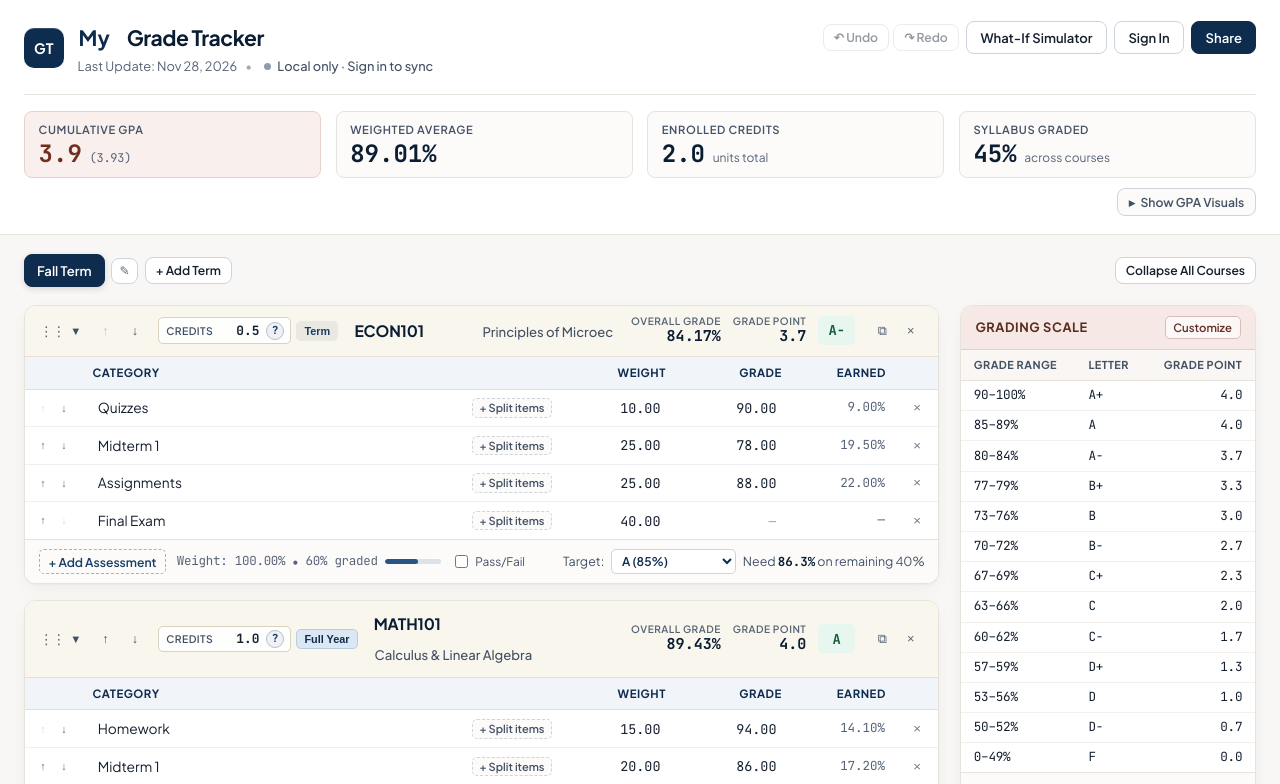
Scenario: Grade Tracker React Application (M1 + M1.1 + Firebase Cloud Sync) › requires inline 2-click confirmation before deleting an assessment row and supports Undo
The image size is (1280, 784).
Later steps or results of the test are not shown.
Click the button named "Delete ".
click(917, 408)  # box [904,395,930,421]
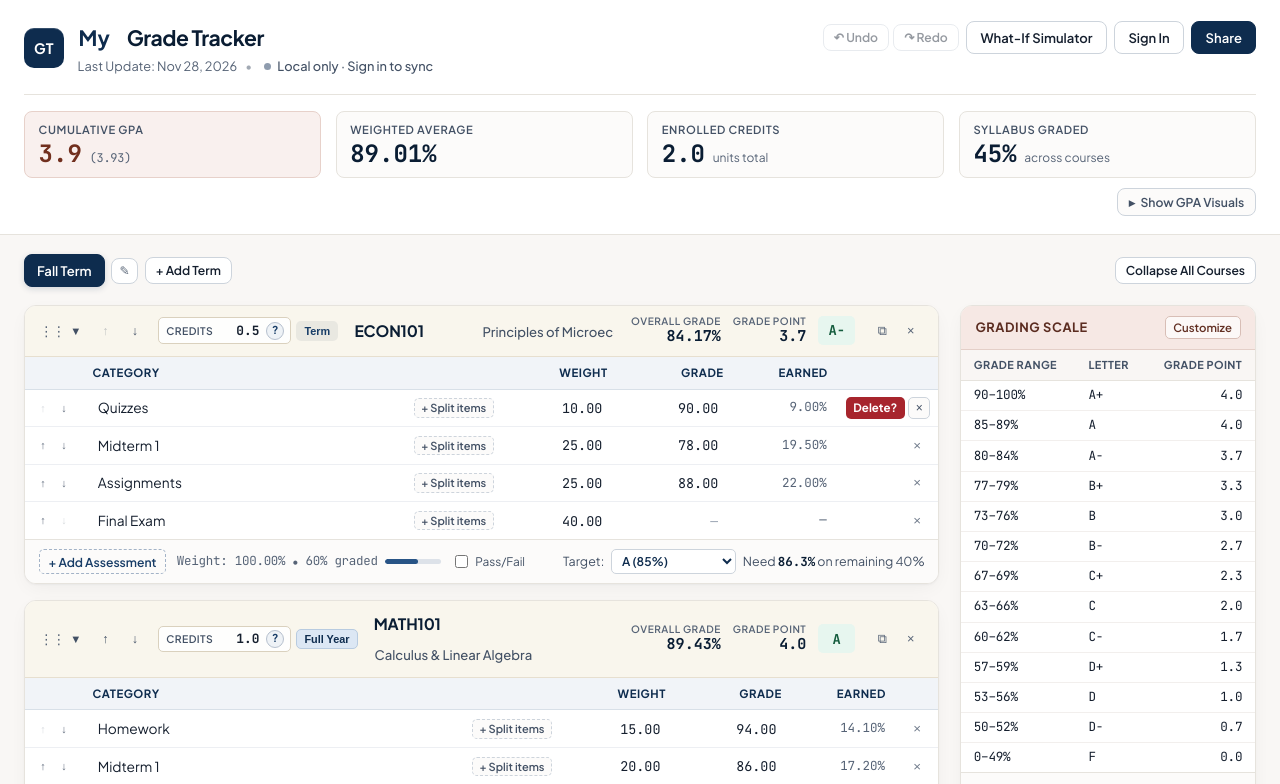
Expected: the button with aria-label "Confirm delete " reads "Delete?", [846,397,905,419]
